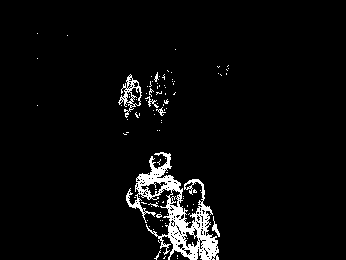person: (126, 150, 182, 260), (167, 176, 223, 260), (119, 74, 141, 136)
